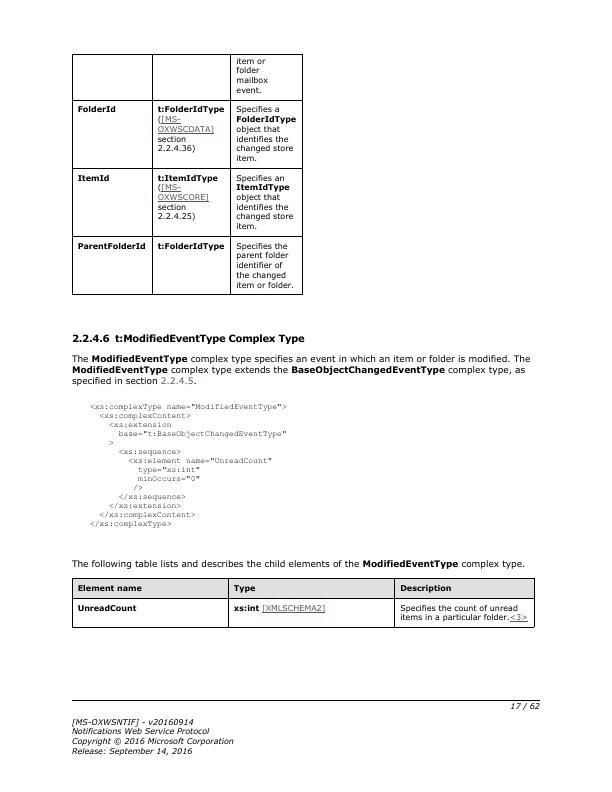table: (70, 52, 303, 295), (71, 576, 537, 631)
text: (82, 403, 293, 529), (70, 351, 535, 388), (67, 715, 234, 758), (68, 557, 527, 572), (71, 332, 308, 347)
